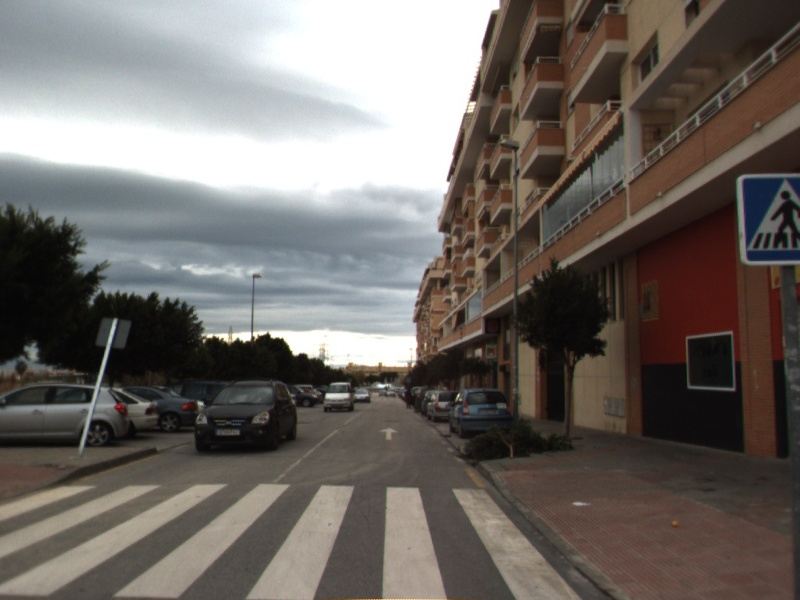STRAIGHT: (377, 425, 400, 442)
